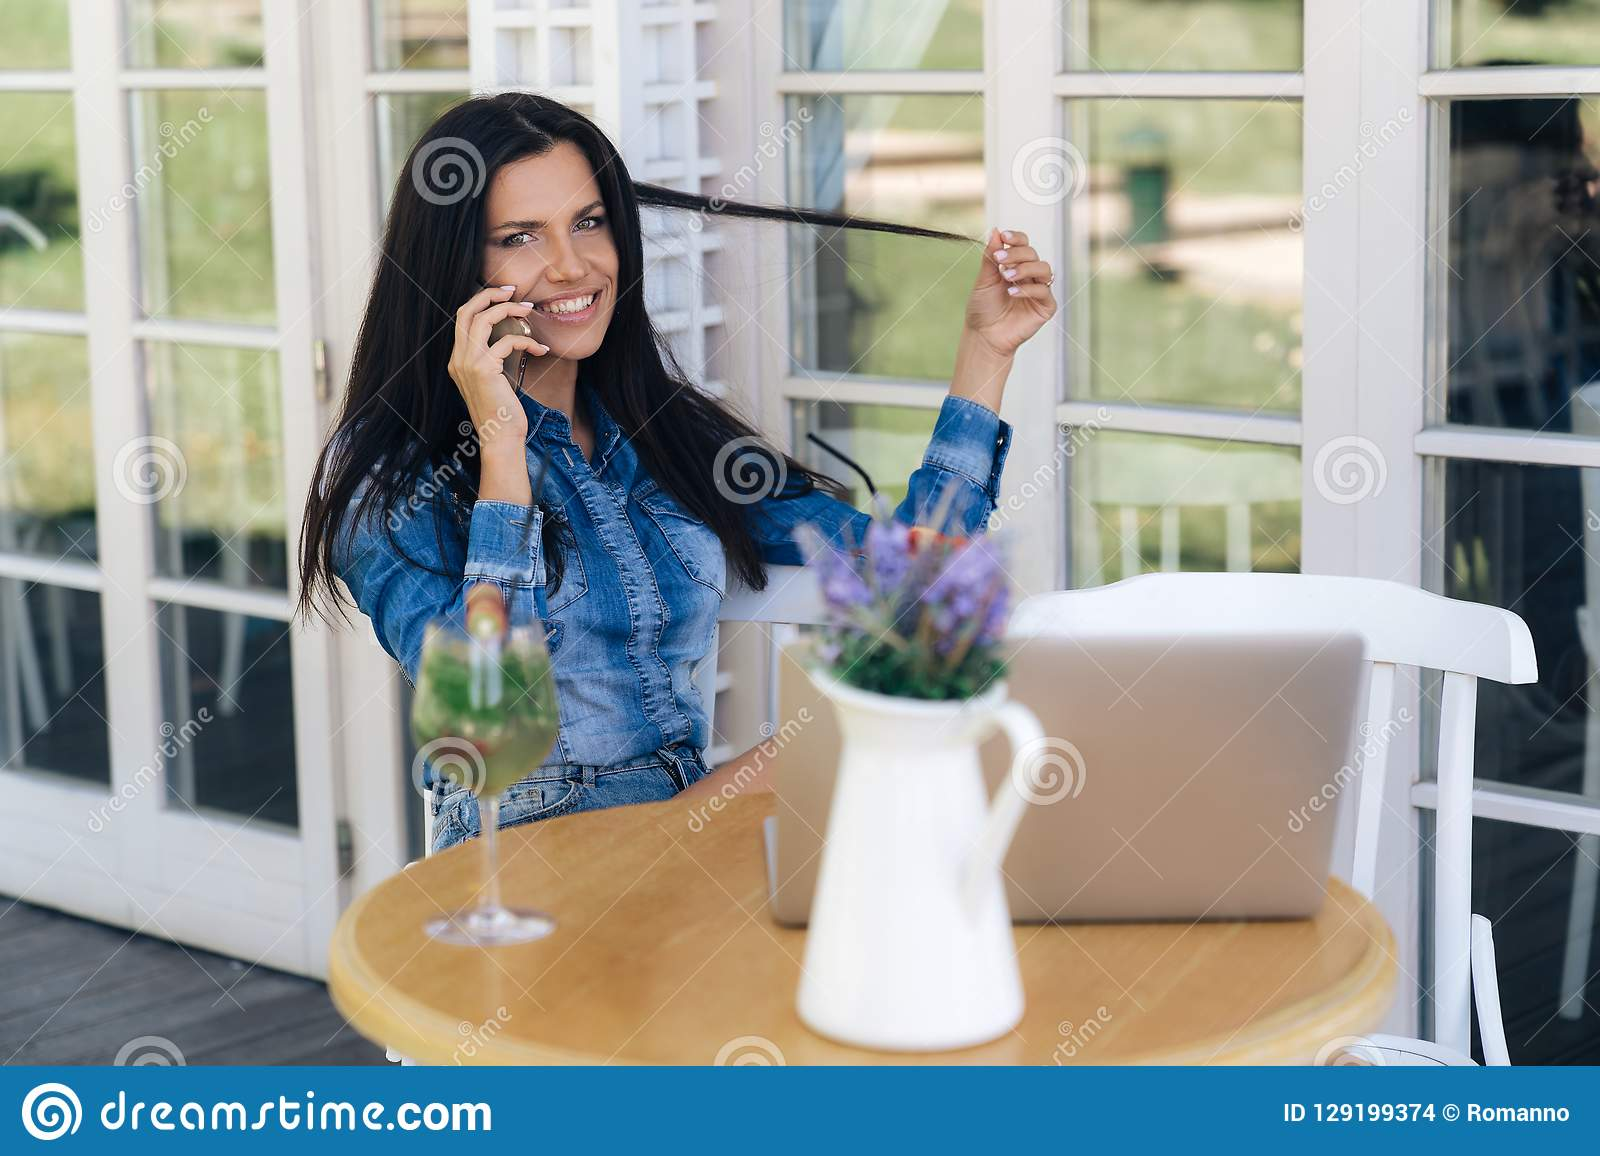phone: (458, 269, 538, 409)
talk: (442, 202, 629, 458)
